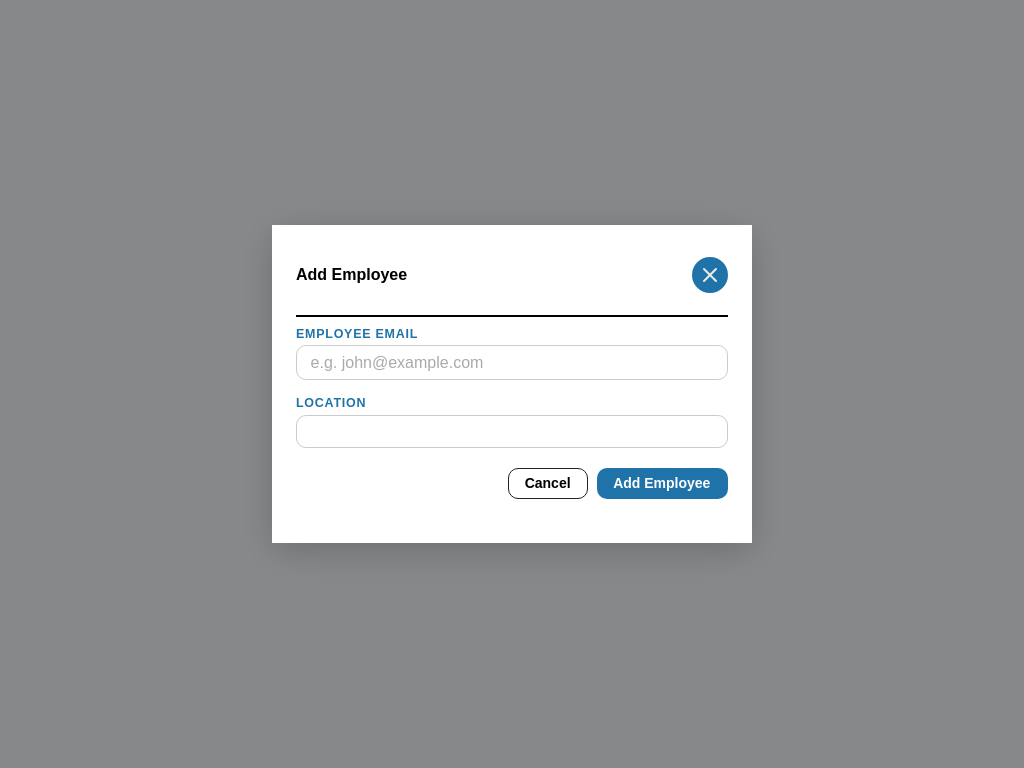
AddEmployeeModal › submission › shows error banner when assignAdminLocation throws
This screenshot has width=1024, height=768.
Type "john@example.com" into the field labelled "Employee Email" at (512, 362), box [296, 345, 728, 380]
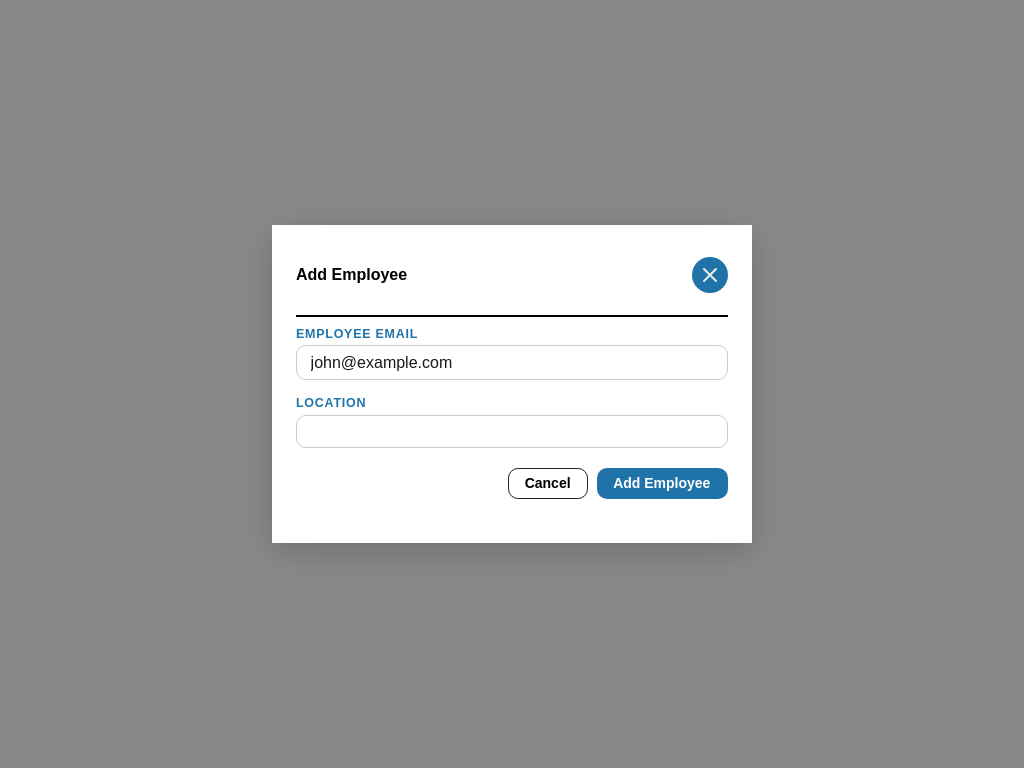
Click the button "Add Employee" at (663, 483), box [597, 468, 728, 499]
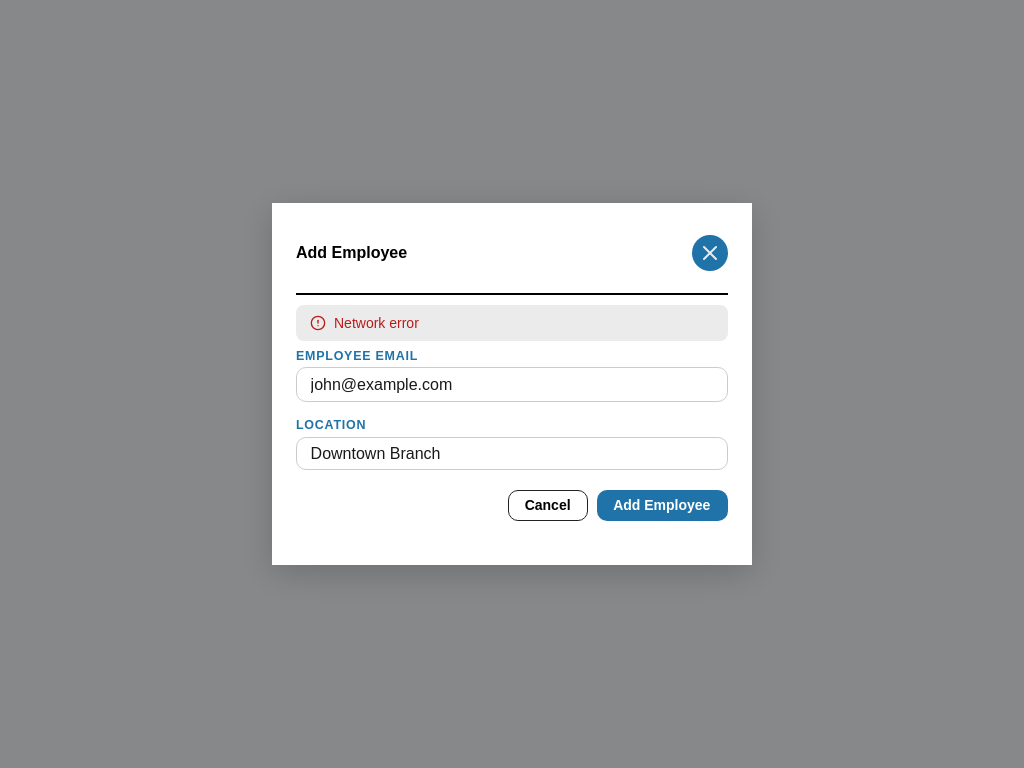
Now the text "Network error" is shown, box [334, 314, 419, 330]
